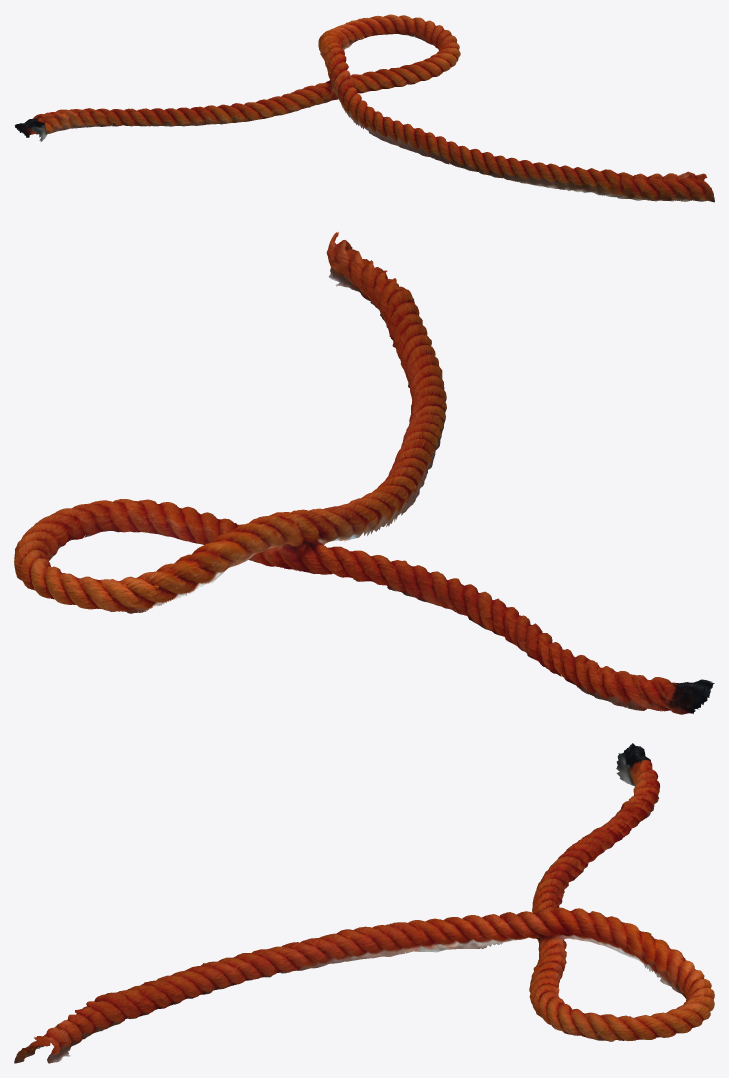
The model's file is red_rope.glb.
3 views of the same model, one above another, from view 1: azimuth 30°, elevation 25°; view 2: azimuth 150°, elevation 25°; view 3: azimuth 270°, elevation 25° (orthographic). The views are drawn at different scales.
Visible parts, largest first — view 1: Object_2; view 2: Object_2; view 3: Object_2.
Part boxes in pixels (x1,y1,x2,y2): Object_2: (14,14,714,202); Object_2: (14,232,714,714); Object_2: (14,743,714,1063).
Size of the model in its own units: 0.3801 by 0.0288 by 0.38.
1 material, 1 textured.
